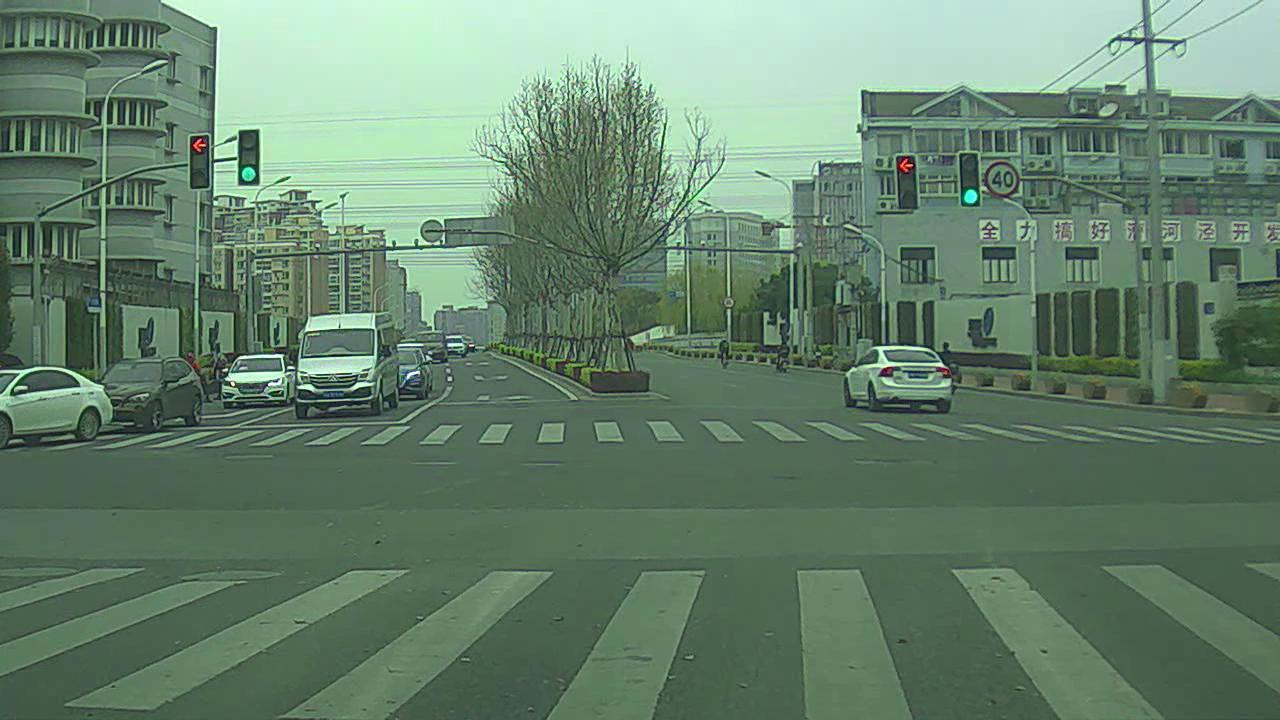traffic_light: (188, 129, 216, 192), (959, 150, 984, 209), (238, 124, 262, 185), (896, 153, 921, 211)
